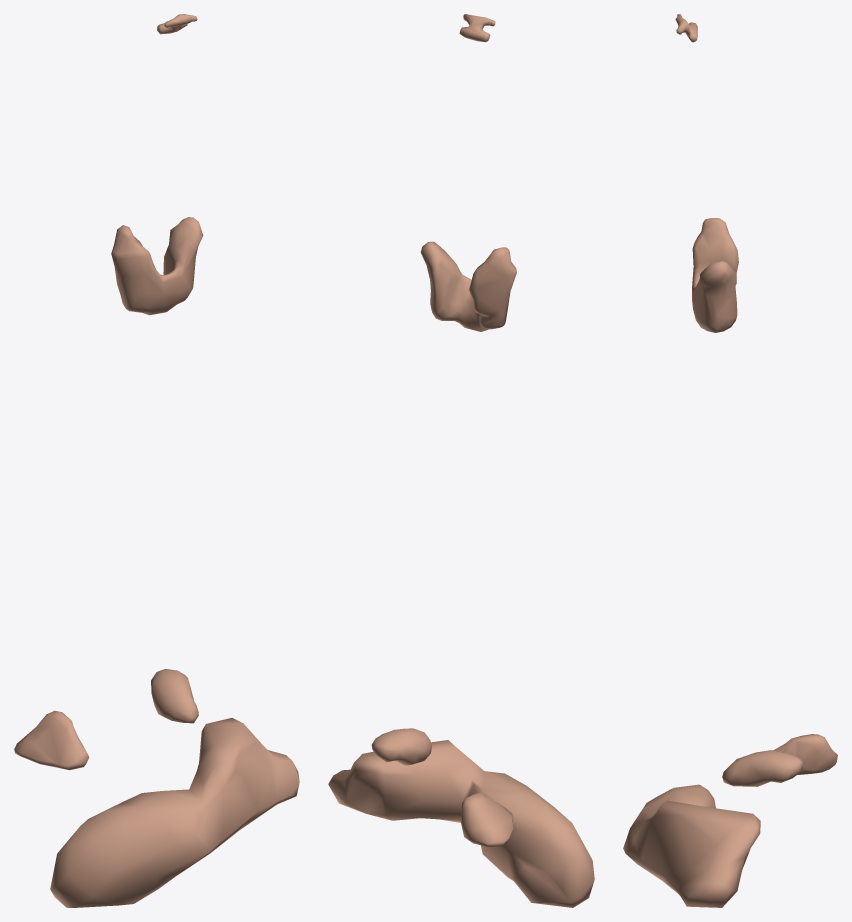
File: icrp_adult_female.endocrine.LOD2.glb
3 renders of one model, left to right at view 1: azimuth 30°, elevation 25°; view 2: azimuth 150°, elevation 25°; view 3: azimuth 270°, elevation 25°, orthographic. The views are drawn at different scales.
Parts seen in each view (by area): view 1: ICRP.ADULT.FEMALE.ENDOCRINE.PANCREAS, ICRP.ADULT.FEMALE.ENDOCRINE.THYROID, ICRP.ADULT.FEMALE.ENDOCRINE.ADRENAL.R, ICRP.ADULT.FEMALE.ENDOCRINE.ADRENAL.L; view 2: ICRP.ADULT.FEMALE.ENDOCRINE.PANCREAS, ICRP.ADULT.FEMALE.ENDOCRINE.THYROID, ICRP.ADULT.FEMALE.ENDOCRINE.ADRENAL.R, ICRP.ADULT.FEMALE.ENDOCRINE.ADRENAL.L, ICRP.ADULT.FEMALE.ENDOCRINE.PITUITARY_GLAND; view 3: ICRP.ADULT.FEMALE.ENDOCRINE.PANCREAS, ICRP.ADULT.FEMALE.ENDOCRINE.THYROID, ICRP.ADULT.FEMALE.ENDOCRINE.ADRENAL.L, ICRP.ADULT.FEMALE.ENDOCRINE.ADRENAL.R.
Part boxes in pixels (<box>): ICRP.ADULT.FEMALE.ENDOCRINE.PANCREAS: <box>50,718,299,907</box>; ICRP.ADULT.FEMALE.ENDOCRINE.THYROID: <box>111,217,203,315</box>; ICRP.ADULT.FEMALE.ENDOCRINE.ADRENAL.R: <box>14,710,89,770</box>; ICRP.ADULT.FEMALE.ENDOCRINE.ADRENAL.L: <box>151,669,198,723</box>; ICRP.ADULT.FEMALE.ENDOCRINE.PANCREAS: <box>328,740,594,907</box>; ICRP.ADULT.FEMALE.ENDOCRINE.THYROID: <box>420,241,516,331</box>; ICRP.ADULT.FEMALE.ENDOCRINE.ADRENAL.R: <box>461,792,513,847</box>; ICRP.ADULT.FEMALE.ENDOCRINE.ADRENAL.L: <box>371,728,431,765</box>; ICRP.ADULT.FEMALE.ENDOCRINE.PITUITARY_GLAND: <box>459,14,495,42</box>; ICRP.ADULT.FEMALE.ENDOCRINE.PANCREAS: <box>623,784,760,907</box>; ICRP.ADULT.FEMALE.ENDOCRINE.THYROID: <box>692,218,738,332</box>; ICRP.ADULT.FEMALE.ENDOCRINE.ADRENAL.L: <box>722,750,803,786</box>; ICRP.ADULT.FEMALE.ENDOCRINE.ADRENAL.R: <box>773,734,837,774</box>.
Bounding box in the file's own units: 0.1427 × 0.4701 × 0.1037.
